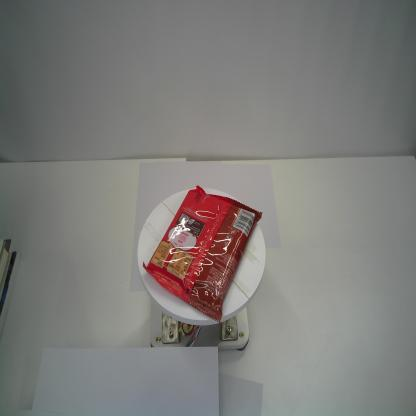Dessert: (142, 185, 262, 324)
